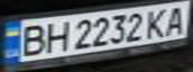2: (69, 16, 97, 51), (90, 14, 115, 47), (124, 9, 148, 43)
3: (109, 11, 130, 45)
A: (160, 2, 193, 36)
B: (12, 21, 51, 57)
H: (39, 19, 72, 54)
K: (142, 6, 172, 39)
